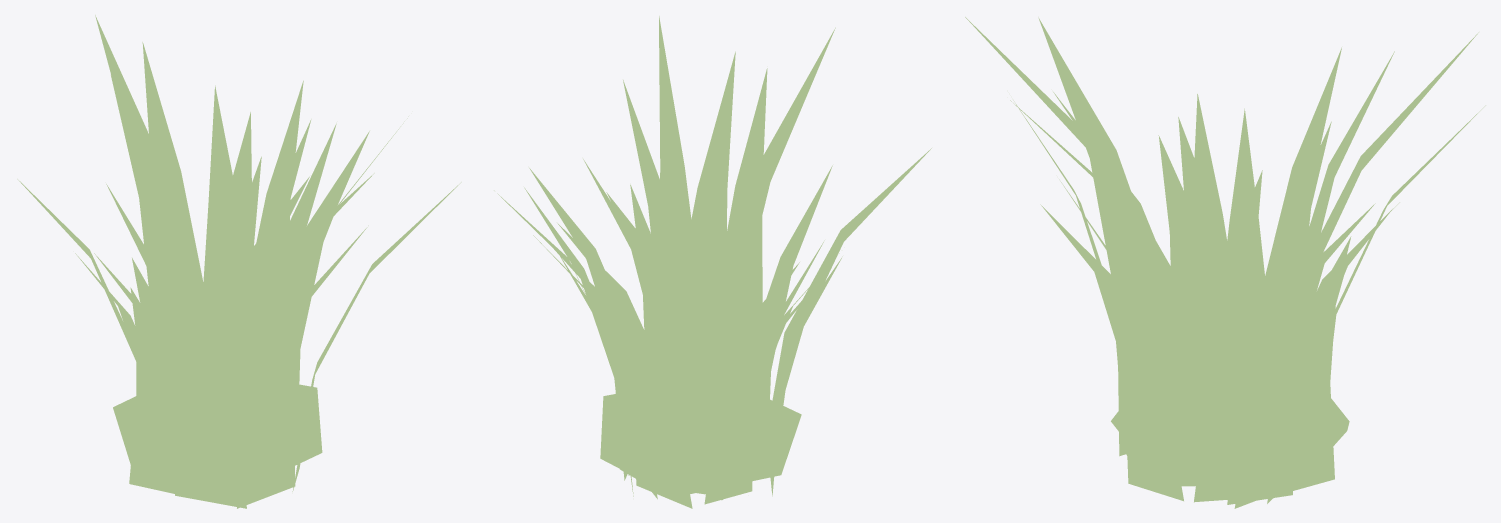
Rendered from Blender_Marram_1.glb.
3 views of the same model, side by side, from view 1: azimuth 30°, elevation 25°; view 2: azimuth 150°, elevation 25°; view 3: azimuth 270°, elevation 25° (orthographic). The views are drawn at different scales.
Parts seen in each view (by area): view 1: Blender_Marram_1; view 2: Blender_Marram_1; view 3: Blender_Marram_1.
Boxes of the visible parts, bbox=[...] form: Blender_Marram_1: bbox=[17, 15, 461, 508]; Blender_Marram_1: bbox=[494, 16, 931, 508]; Blender_Marram_1: bbox=[965, 17, 1485, 508].
Bounding box in the file's own units: 0.7721 × 0.8884 × 0.9474.
